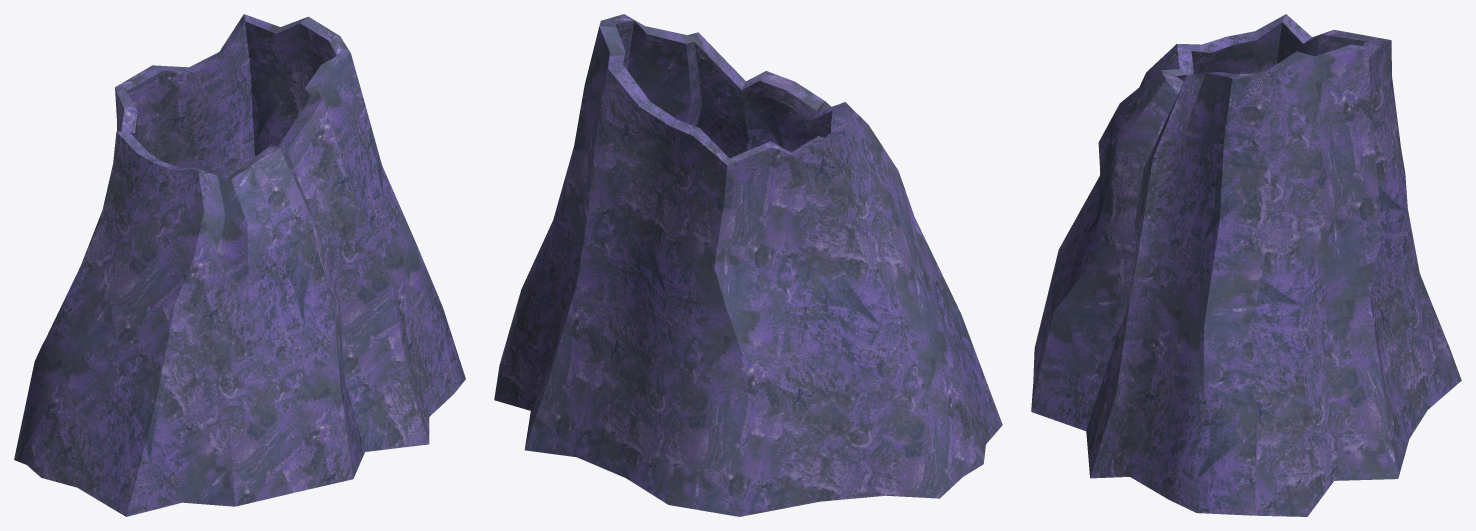
The model's file is AlienGrove_Vent_SM.fbx.
3 views of the same model, side by side, from view 1: azimuth 30°, elevation 25°; view 2: azimuth 150°, elevation 25°; view 3: azimuth 270°, elevation 25° (orthographic). The views are drawn at different scales.
Parts seen in each view (by area): view 1: AlienGrove_Vent_SM; view 2: AlienGrove_Vent_SM; view 3: AlienGrove_Vent_SM.
Part boxes in pixels (x1,y1,x2,y2): AlienGrove_Vent_SM: [14, 14, 465, 516]; AlienGrove_Vent_SM: [494, 14, 1002, 516]; AlienGrove_Vent_SM: [1031, 14, 1461, 516].
Bounding box in the file's own units: 581 × 492 × 457.
